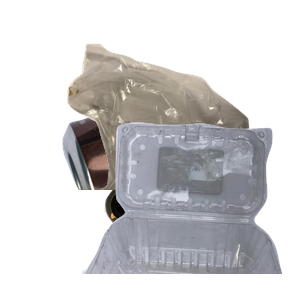glass: (102, 181, 246, 300)
metal: (60, 79, 300, 259)
plastic: (80, 120, 300, 300)
trash: (65, 41, 300, 221)
